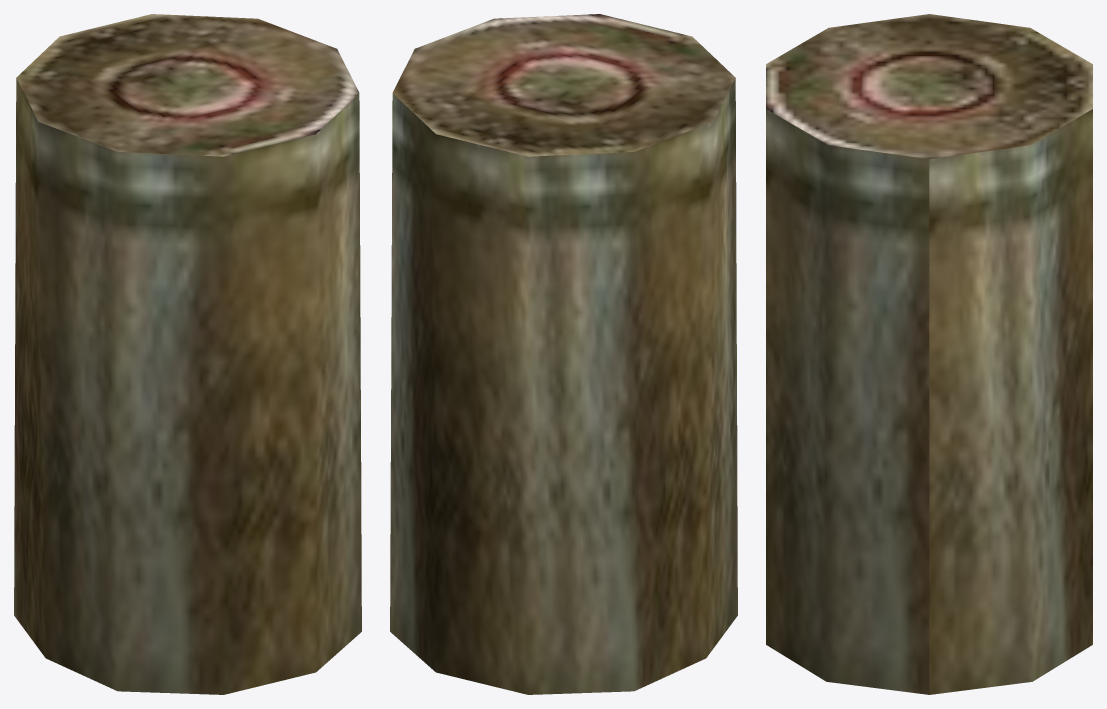
File: prop_pistol_shell.glb
3 views of the same model, side by side, from view 1: azimuth 30°, elevation 25°; view 2: azimuth 150°, elevation 25°; view 3: azimuth 270°, elevation 25° (orthographic).
Size of the model in its own units: 0.6501 by 1.12 by 0.6183.
1 material, 1 textured.
